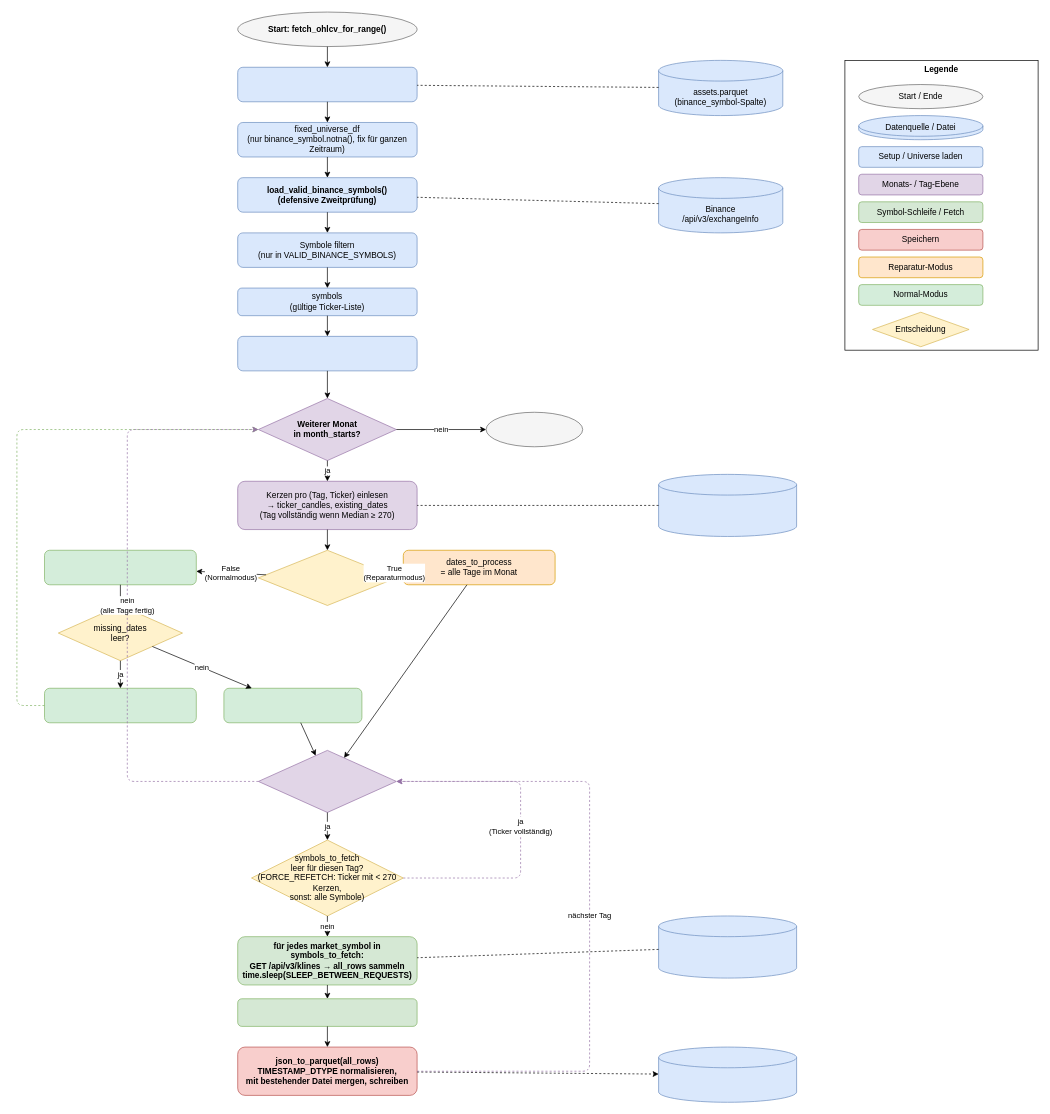
Some shapes in this 1050 by 1114 pixel diagram are drawn without their labels. The centre of each missing label's shape, as x and y in pixels:
"all_rows" belongs at pixel 327 1012.
"bestehende ohlcv_YYYY-MM.parquet (falls vorhanden)" belongs at pixel 727 505.
"Binance data-api.binance.vision /api/v3/klines" belongs at pixel 727 946.
"dates_to_process = missing_dates" belongs at pixel 292 705.
"Ende" belongs at pixel 534 429.
"FORCE_REFETCH?" belongs at pixel 327 577.
"load_fixed_asset_universe()" belongs at pixel 327 84.
"missing_dates = Tage nicht in existing_dates" belongs at pixel 120 567.
"Monat überspringen ✅ alle Tage vollständig" belongs at pixel 120 705.
"month_starts = Monate zwischen OHLCV_START_DATE … OHLCV_END_DATE" belongs at pixel 327 353.
"ohlcv_YYYY-MM.parquet" belongs at pixel 727 1074.
"Weiterer Tag in dates_to_process?" belongs at pixel 327 781.
